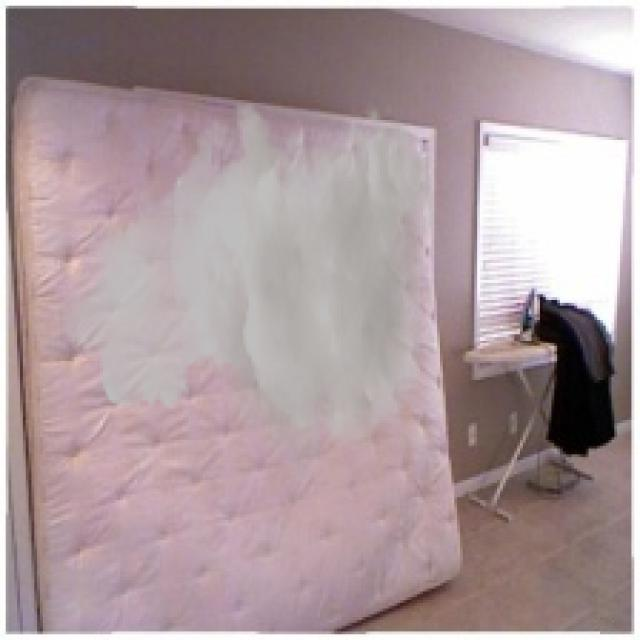smoke: (52, 100, 434, 494)
